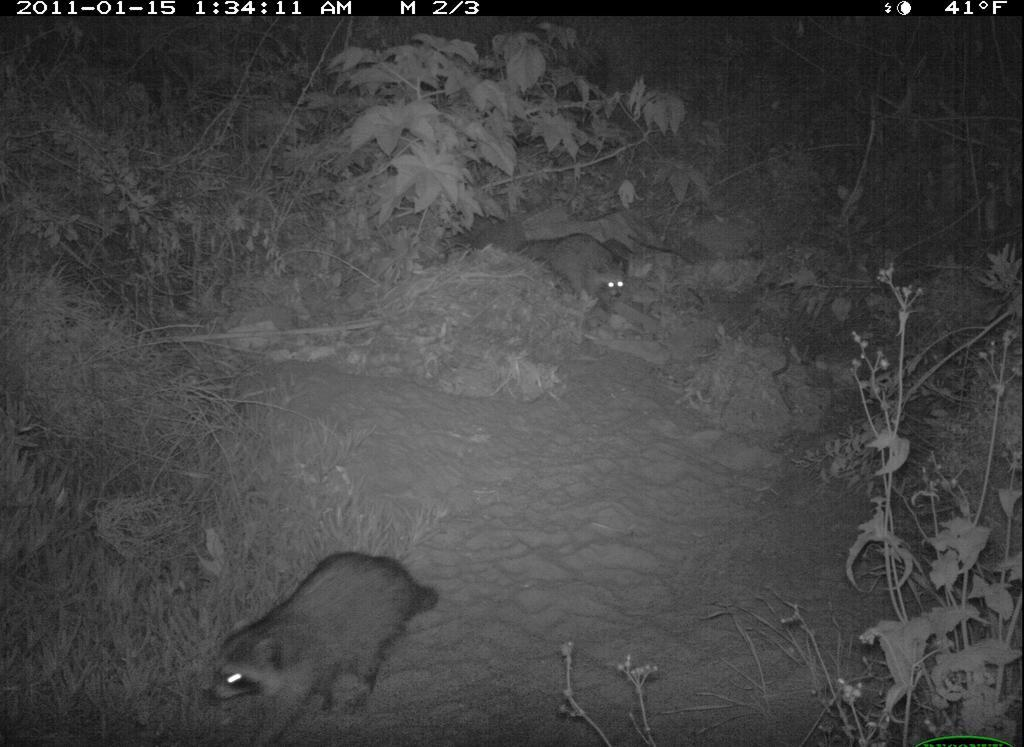raccoon: (185, 542, 468, 745), (509, 212, 653, 332)
